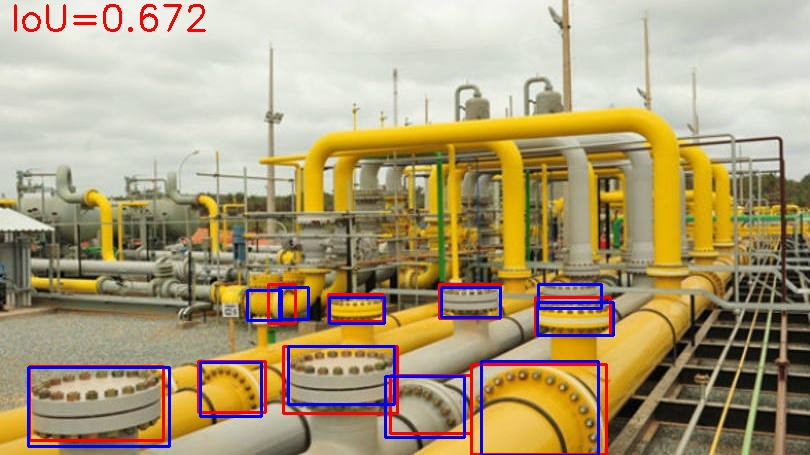flange joint: (472, 365, 607, 455), (30, 367, 164, 441), (284, 347, 398, 414), (391, 376, 472, 434), (199, 362, 266, 413), (536, 298, 611, 336), (440, 285, 501, 319), (329, 295, 384, 322), (269, 285, 296, 324)
